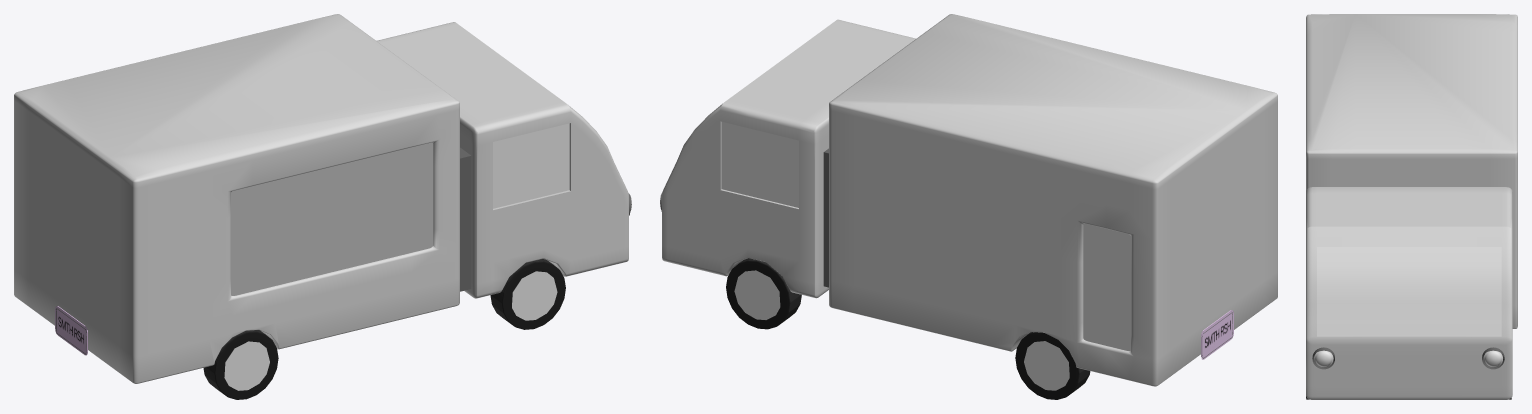
The model's file is new car.fbx.
The picture shows the model from 3 angles, left to right: view 1: azimuth 30°, elevation 25°; view 2: azimuth 150°, elevation 25°; view 3: azimuth 270°, elevation 25°; orthographic projection. The views are drawn at different scales.
Visible parts, largest first — view 1: Truck_Back.001; view 2: Truck_Back.001; view 3: Truck_Back.001.
Boxes of the visible parts, x1,y1,x2,y2 form: Truck_Back.001: [14, 14, 631, 399]; Truck_Back.001: [660, 14, 1277, 399]; Truck_Back.001: [1306, 14, 1517, 399].
Size of the model in its own units: 1341 by 630 by 560.
Materials: 9 (1 with a texture image).
